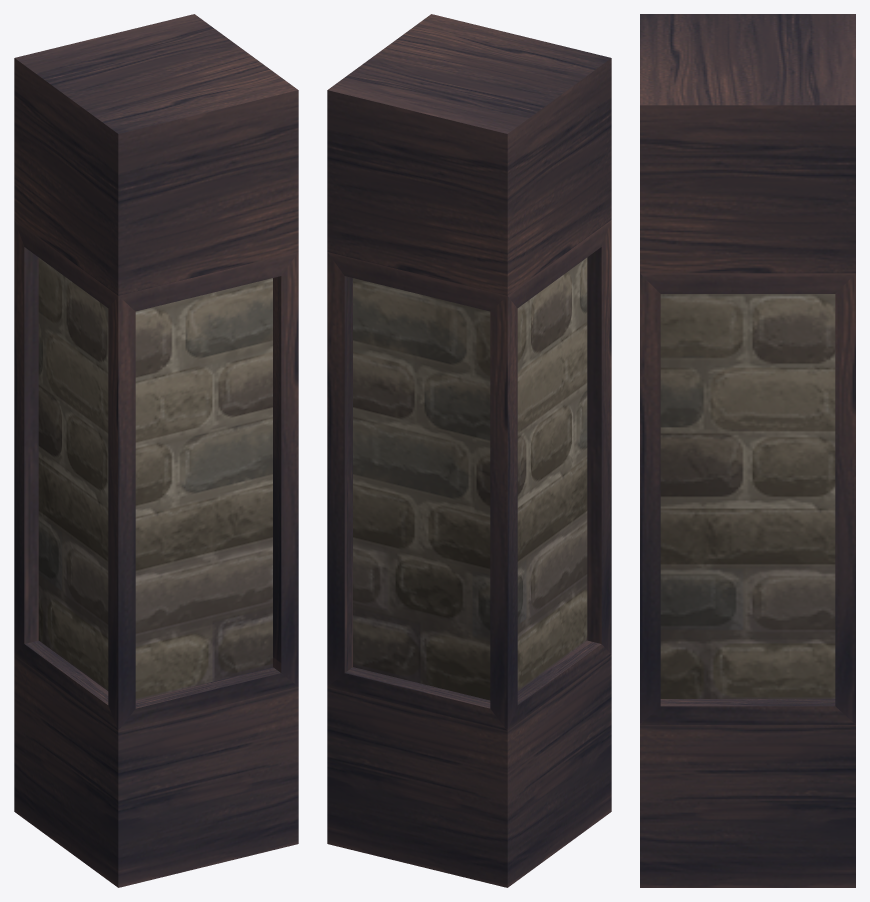
File: Pillar.fbx
The picture shows the model from 3 angles, left to right: view 1: azimuth 30°, elevation 25°; view 2: azimuth 150°, elevation 25°; view 3: azimuth 270°, elevation 25°; orthographic projection. The views are drawn at different scales.
Parts seen in each view (by area): view 1: Pillar; view 2: Pillar; view 3: Pillar.
Part boxes in pixels (x1=…): Pillar: x1=14, y1=14, x2=298, y2=887; Pillar: x1=327, y1=14, x2=611, y2=887; Pillar: x1=640, y1=14, x2=855, y2=887.
Size of the model in its own units: 0.1567 by 0.6265 by 0.1567.
